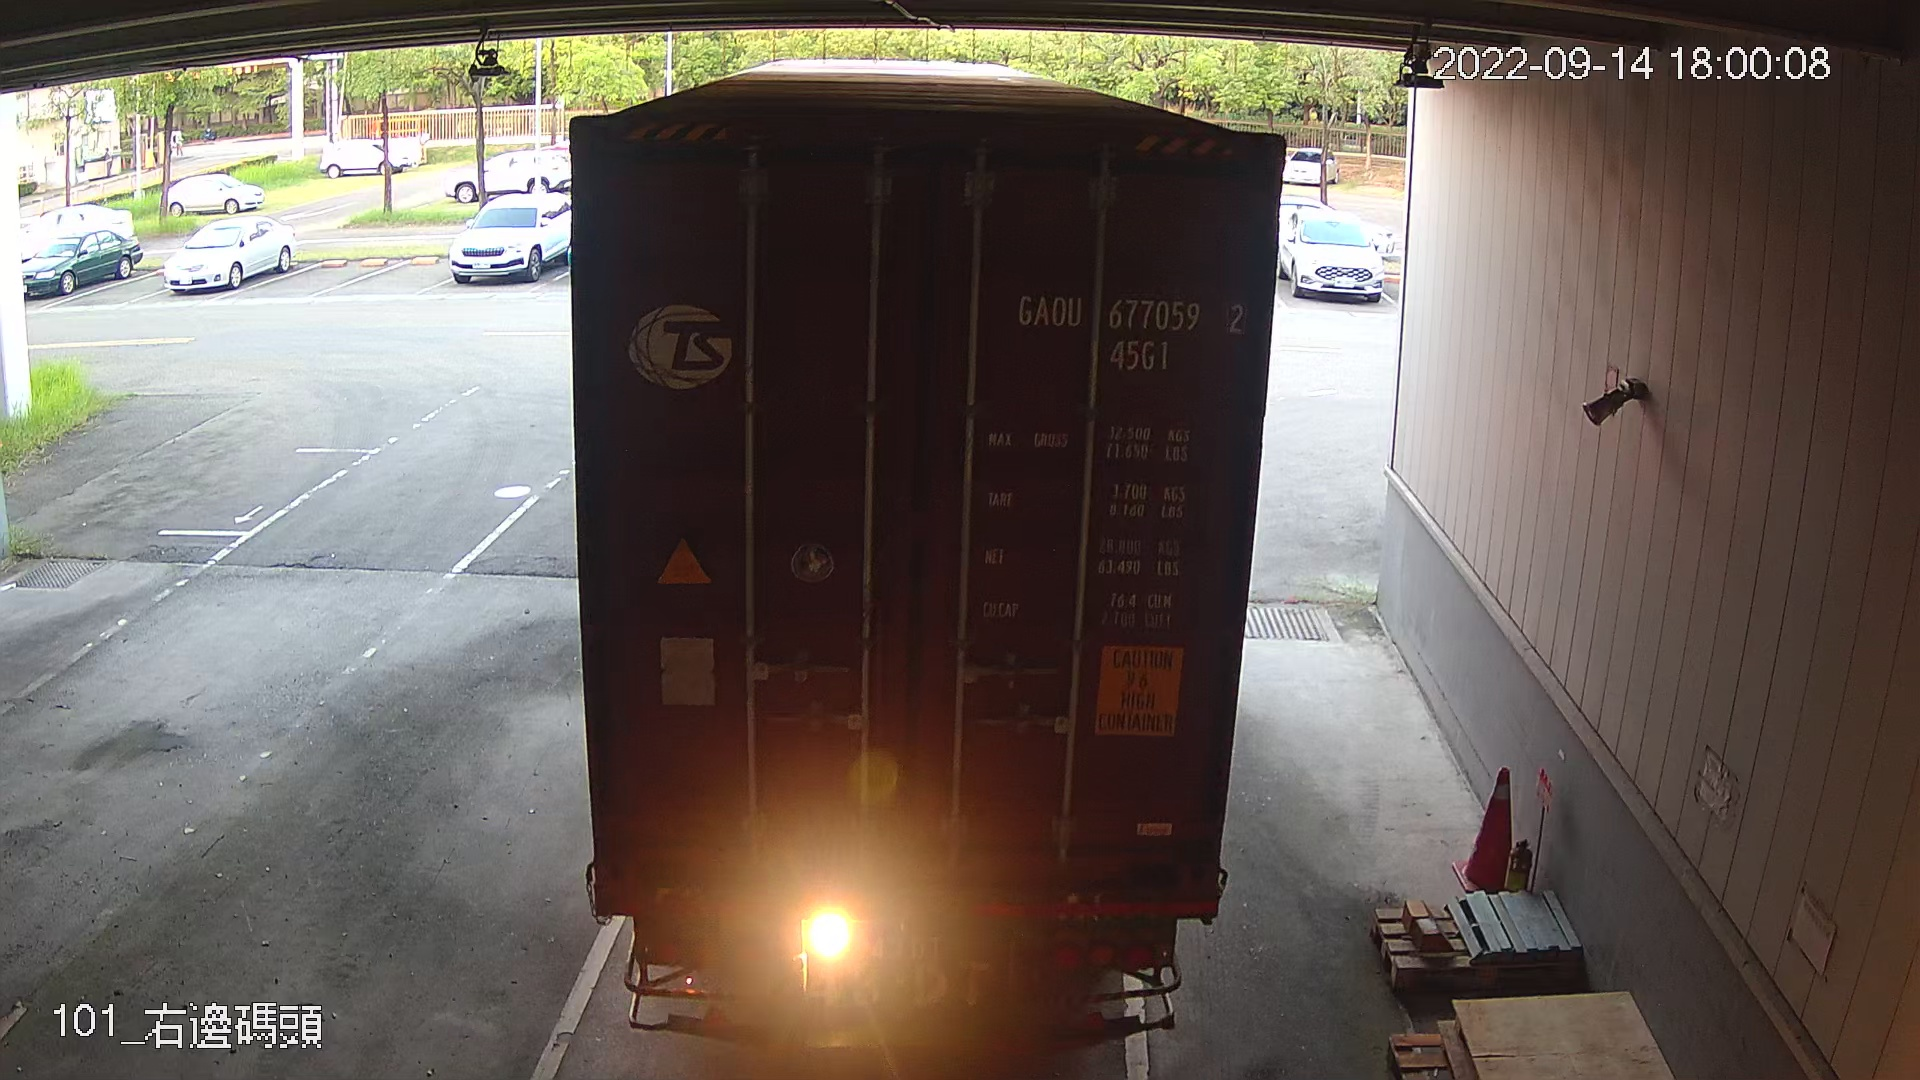container: (1004, 277, 1251, 382)
